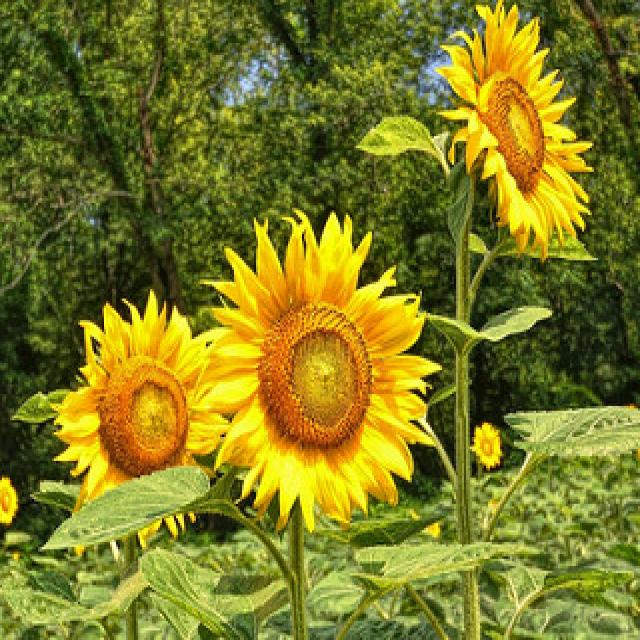sunflower: (202, 233, 433, 518), (52, 311, 239, 533), (447, 1, 594, 262), (470, 426, 502, 472)
